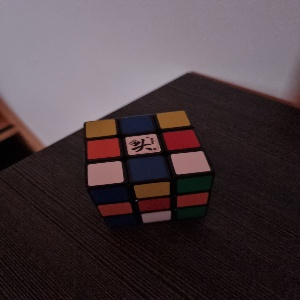cube: (84, 110, 216, 229)
